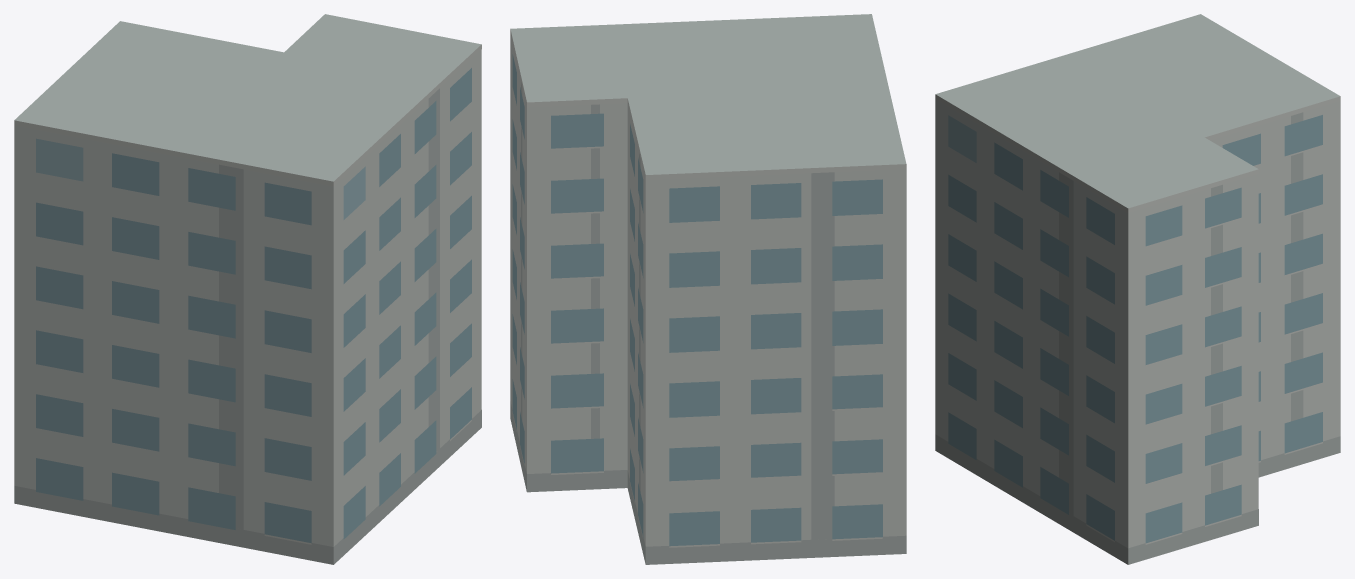
File: survey-upis-33016357.glb
3 renders of one model, left to right at view 1: azimuth 30°, elevation 25°; view 2: azimuth 150°, elevation 25°; view 3: azimuth 270°, elevation 25°, orthographic. The views are drawn at different scales.
Visible parts, largest first — view 1: survey-upis-33016357.tmp; view 2: survey-upis-33016357.tmp; view 3: survey-upis-33016357.tmp.
Boxes of the visible parts, x1,y1,x2,y2 form: survey-upis-33016357.tmp: (14, 14, 481, 564); survey-upis-33016357.tmp: (510, 14, 906, 564); survey-upis-33016357.tmp: (935, 14, 1340, 564).
Bounding box in the file's own units: 21.77 × 18.6 × 19.18.
